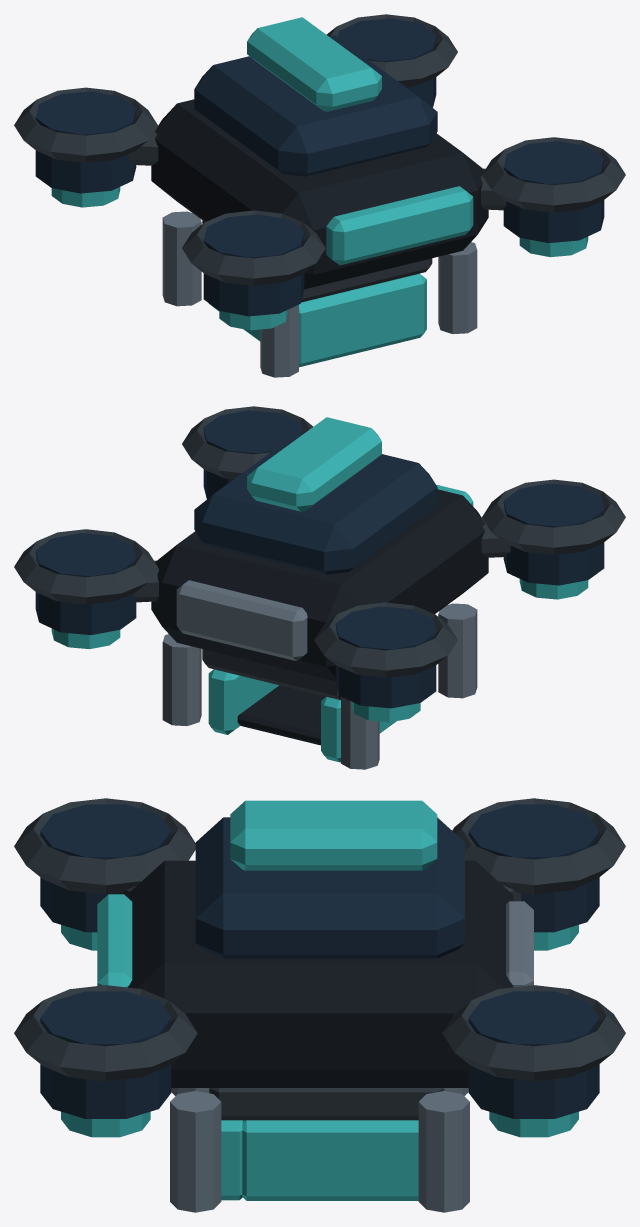
Rendered from TechDrone.glb.
3 views of the same model, one above another, from view 1: azimuth 30°, elevation 25°; view 2: azimuth 150°, elevation 25°; view 3: azimuth 270°, elevation 25° (orthographic). The views are drawn at different scales.
Parts seen in each view (by area): view 1: MainHull, UpperArmor, AttachmentFrontStop, TopEnergySpine, FrontSensorBand, FrontLeft_ThrusterBody, FrontRight_ThrusterBody, RearLeft_ThrusterBody, RearLeft_DuctRing, FrontLeft_DuctRing, FrontRight_DuctRing, RearRight_ThrusterBody (+10 smaller); view 2: MainHull, UpperArmor, TopEnergySpine, RearServicePanel, RearLeft_ThrusterBody, RearRight_ThrusterBody, FrontLeft_ThrusterBody, FrontLeft_DuctRing, RearLeft_DuctRing, RearRight_DuctRing, FrontRight_ThrusterBody, AttachmentSlotFloor (+12 smaller); view 3: MainHull, UpperArmor, TopEnergySpine, AttachmentRailRight, FrontRight_ThrusterBody, RearRight_ThrusterBody, RearLeft_ThrusterBody, FrontLeft_ThrusterBody, FrontRight_DuctRing, RearRight_DuctRing, FrontLeft_DuctRing, AttachmentMountBase (+10 smaller).
Boxes of the visible parts, bbox=[...] form: MainHull: bbox=[151, 99, 488, 289]; UpperArmor: bbox=[194, 35, 437, 176]; AttachmentFrontStop: bbox=[299, 273, 426, 367]; TopEnergySpine: bbox=[247, 17, 381, 111]; FrontSensorBand: bbox=[326, 186, 473, 265]; FrontLeft_ThrusterBody: bbox=[203, 214, 304, 316]; FrontRight_ThrusterBody: bbox=[503, 141, 604, 243]; RearLeft_ThrusterBody: bbox=[35, 91, 136, 193]; RearLeft_DuctRing: bbox=[14, 87, 157, 162]; FrontLeft_DuctRing: bbox=[182, 210, 325, 285]; FrontRight_DuctRing: bbox=[482, 137, 625, 212]; RearRight_ThrusterBody: bbox=[337, 18, 436, 107]; MainHull: bbox=[151, 489, 488, 681]; UpperArmor: bbox=[194, 433, 437, 574]; TopEnergySpine: bbox=[247, 417, 381, 511]; RearServicePanel: bbox=[176, 580, 307, 660]; RearLeft_ThrusterBody: bbox=[335, 606, 436, 708]; RearRight_ThrusterBody: bbox=[35, 533, 136, 635]; FrontLeft_ThrusterBody: bbox=[503, 483, 604, 585]; FrontLeft_DuctRing: bbox=[482, 479, 625, 554]; RearLeft_DuctRing: bbox=[314, 602, 457, 677]; RearRight_DuctRing: bbox=[14, 529, 157, 604]; FrontRight_ThrusterBody: bbox=[203, 410, 303, 498]; AttachmentSlotFloor: bbox=[237, 685, 325, 745]; MainHull: bbox=[126, 860, 513, 1087]; UpperArmor: bbox=[195, 817, 464, 958]; TopEnergySpine: bbox=[230, 800, 437, 870]; AttachmentRailRight: bbox=[242, 1120, 418, 1200]; FrontRight_ThrusterBody: bbox=[40, 991, 171, 1118]; RearRight_ThrusterBody: bbox=[468, 991, 599, 1118]; RearLeft_ThrusterBody: bbox=[468, 804, 599, 932]; FrontLeft_ThrusterBody: bbox=[40, 804, 171, 932]; FrontRight_DuctRing: bbox=[14, 985, 197, 1081]; RearRight_DuctRing: bbox=[442, 985, 625, 1081]; FrontLeft_DuctRing: bbox=[14, 798, 195, 894]; AttachmentMountBase: bbox=[209, 1088, 444, 1120].
Size of the model in its own units: 0.906 by 0.555 by 0.886.
